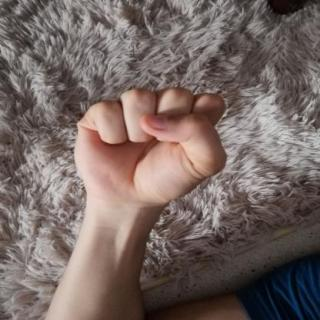SAD: (59, 73, 240, 217)
